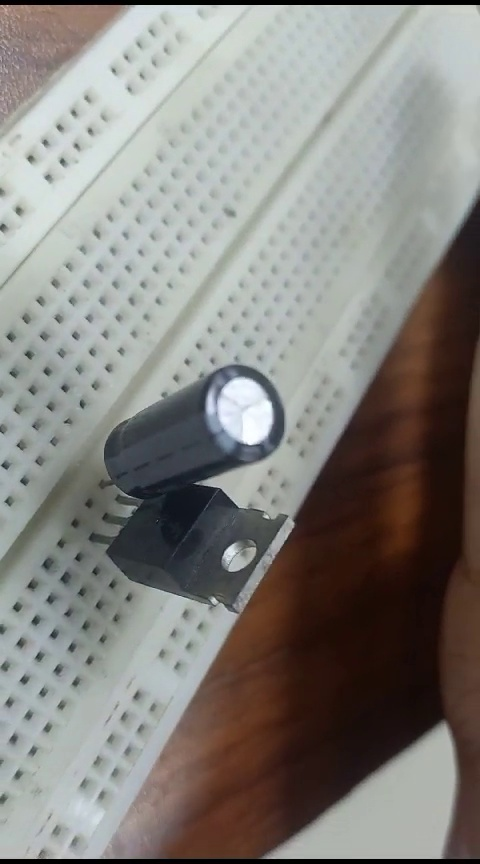capacitor: (91, 347, 291, 492)
voltage regulator: (96, 480, 298, 619)
